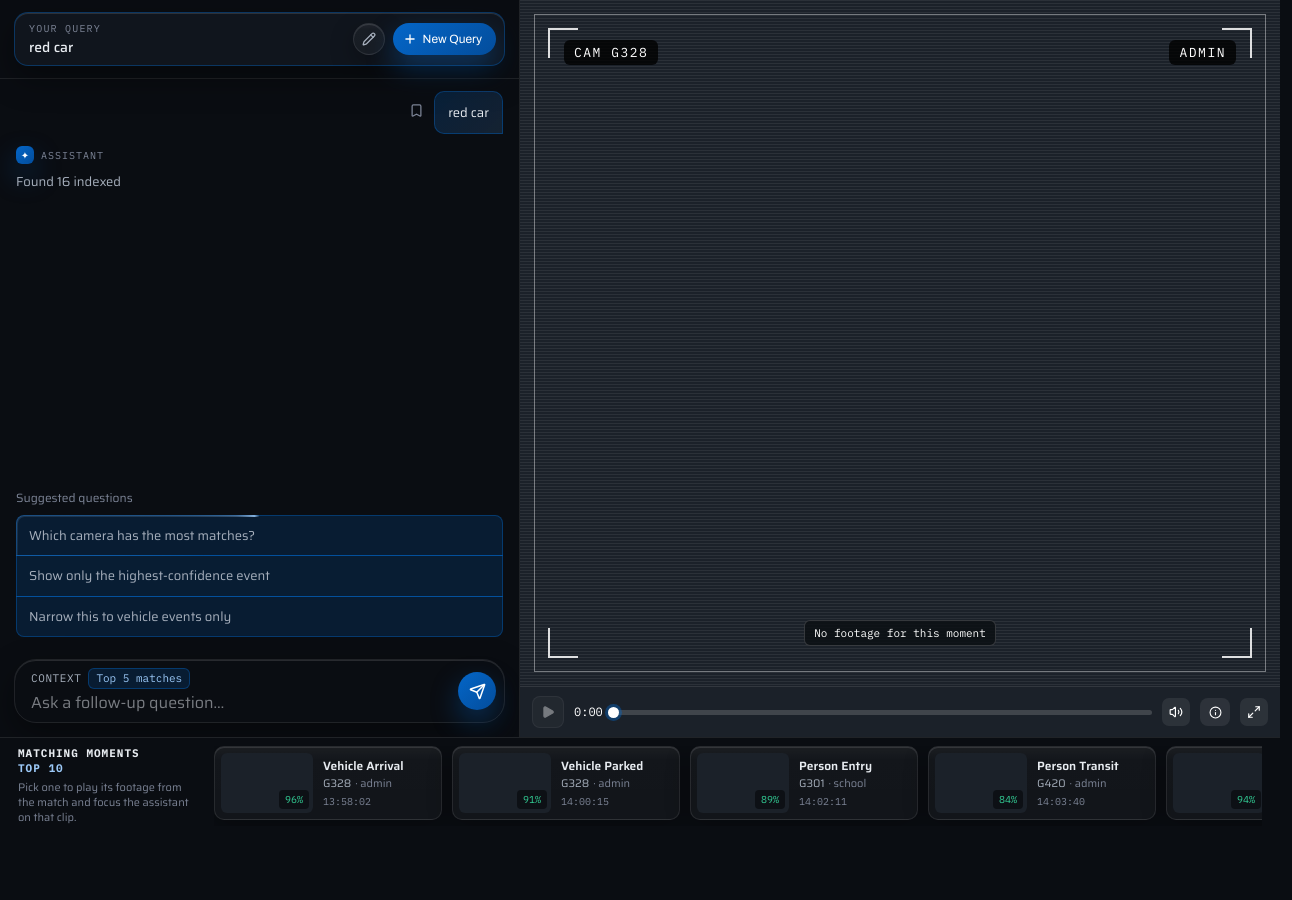
Test: Results › offers a floating chat button while collapsed, which restores the chat
This screenshot has width=1292, height=900.
Click the button named "Expand video": (1254, 712) [1240,698,1268,726]
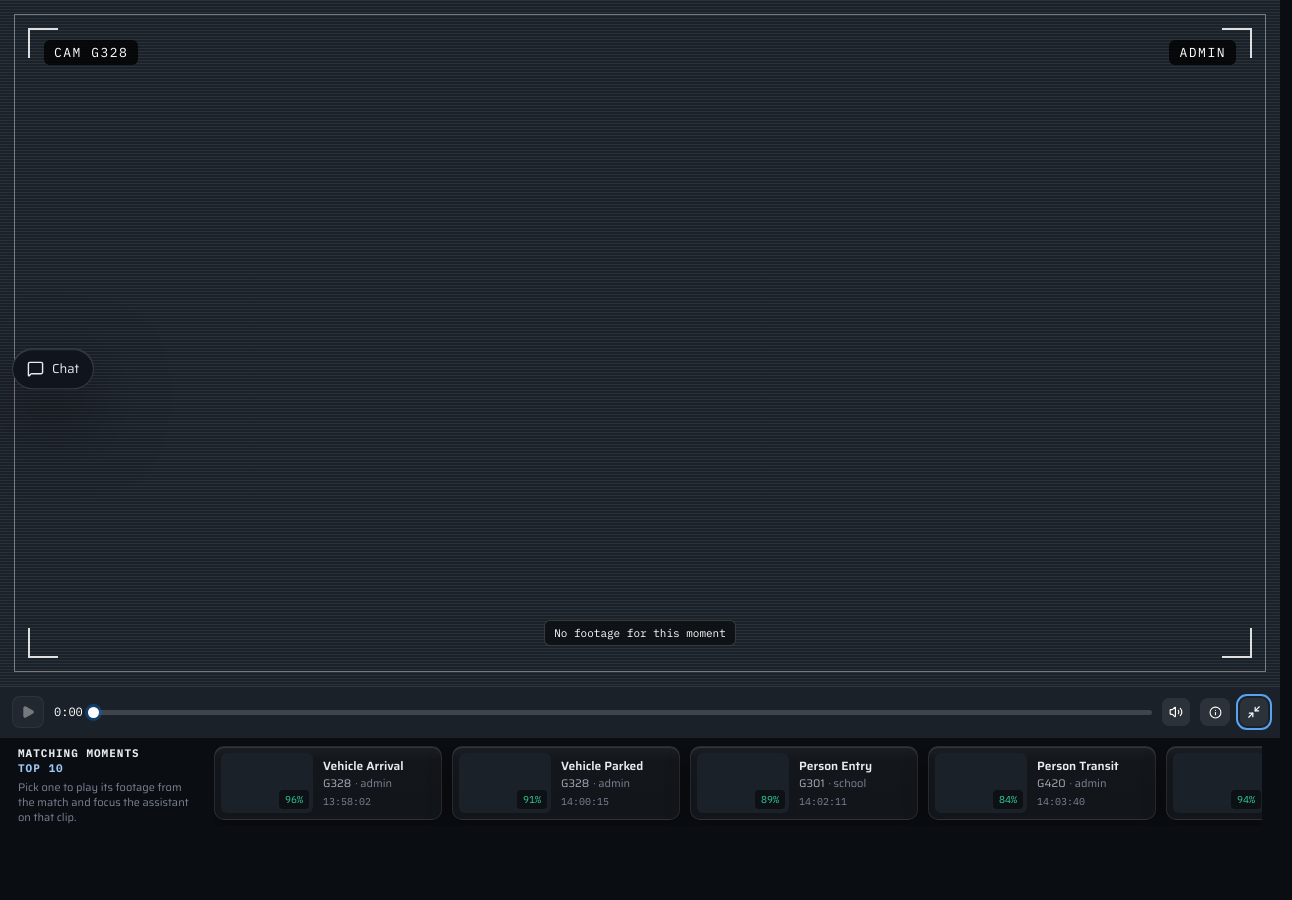
Click the button with aria-label "Show chat": (53, 369) [12,348,94,389]
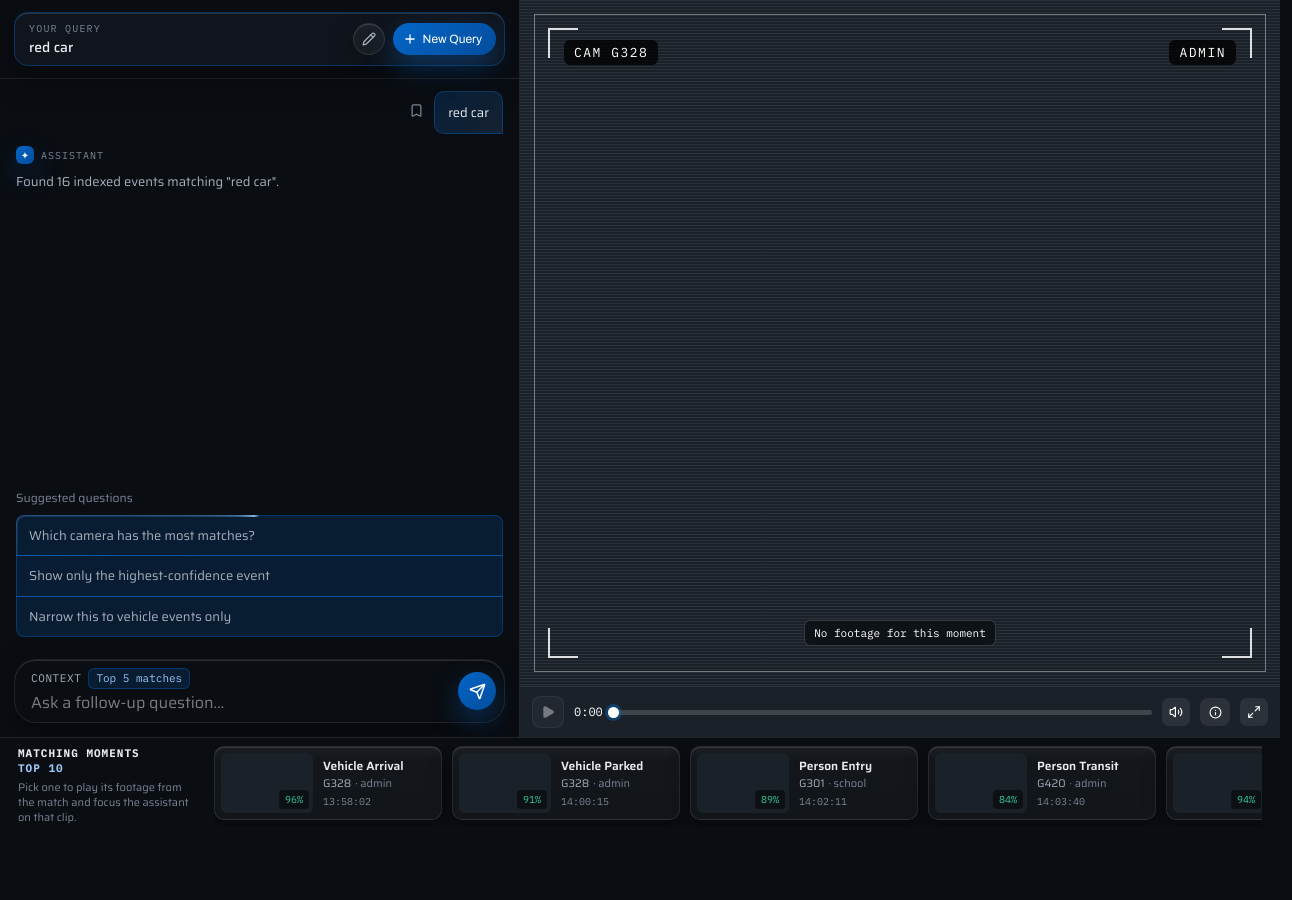
Check: the element "YOUR QUERY" is shown, box [14,12,505,66]
